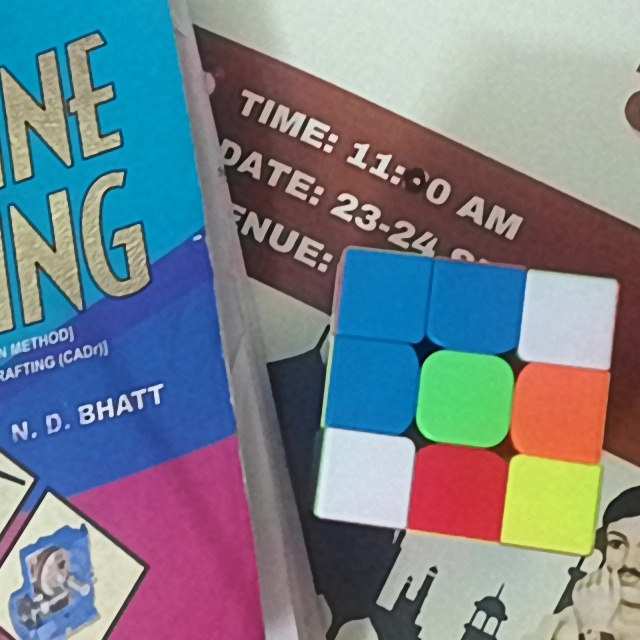tile: (333, 349, 410, 426), (528, 282, 606, 358), (327, 443, 405, 517), (423, 365, 503, 436), (345, 260, 422, 331), (520, 377, 597, 448), (419, 457, 499, 524), (439, 273, 512, 343), (513, 474, 588, 540)
